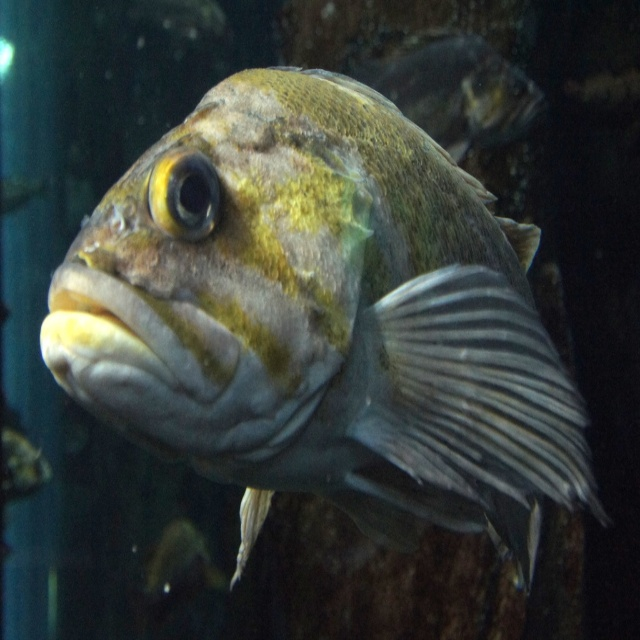Fish: (36, 69, 599, 615)
